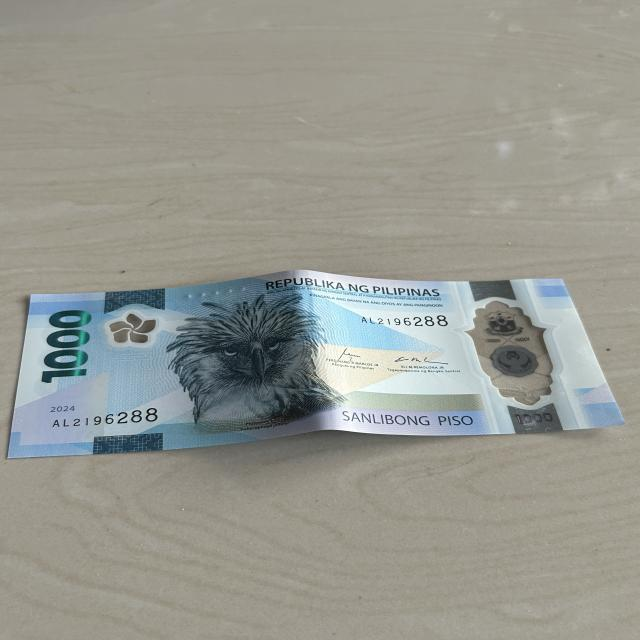clear_window: (449, 296, 564, 410)
eagle: (166, 297, 338, 429)
sampaguita: (108, 310, 156, 348)
